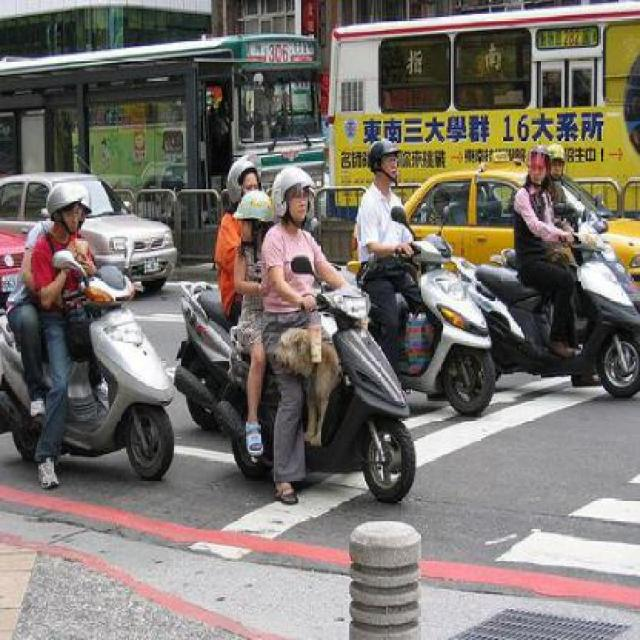Person: (258, 164, 348, 502), (32, 181, 102, 488), (354, 134, 435, 380), (507, 140, 575, 354), (232, 188, 272, 454), (6, 217, 52, 417), (212, 158, 257, 322), (545, 139, 590, 263), (209, 96, 231, 172)
